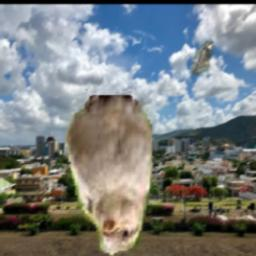Cuckoo: (192, 42, 213, 76)
Sparrow: (66, 79, 153, 256)
